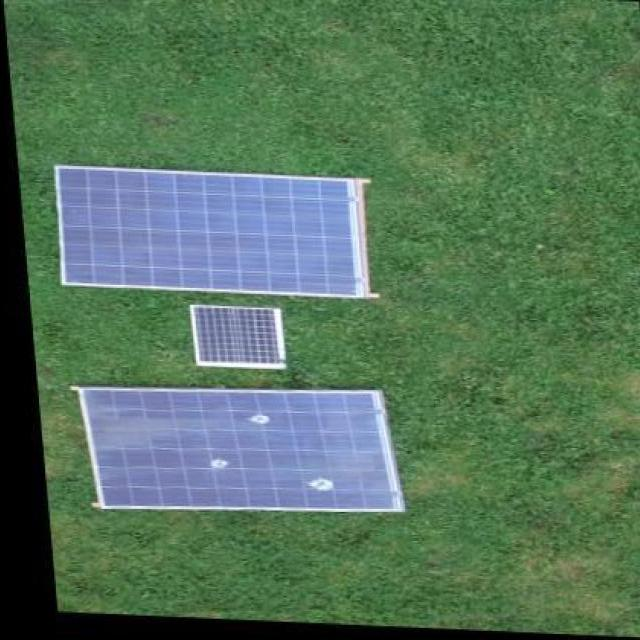soiled: (78, 388, 400, 520)
